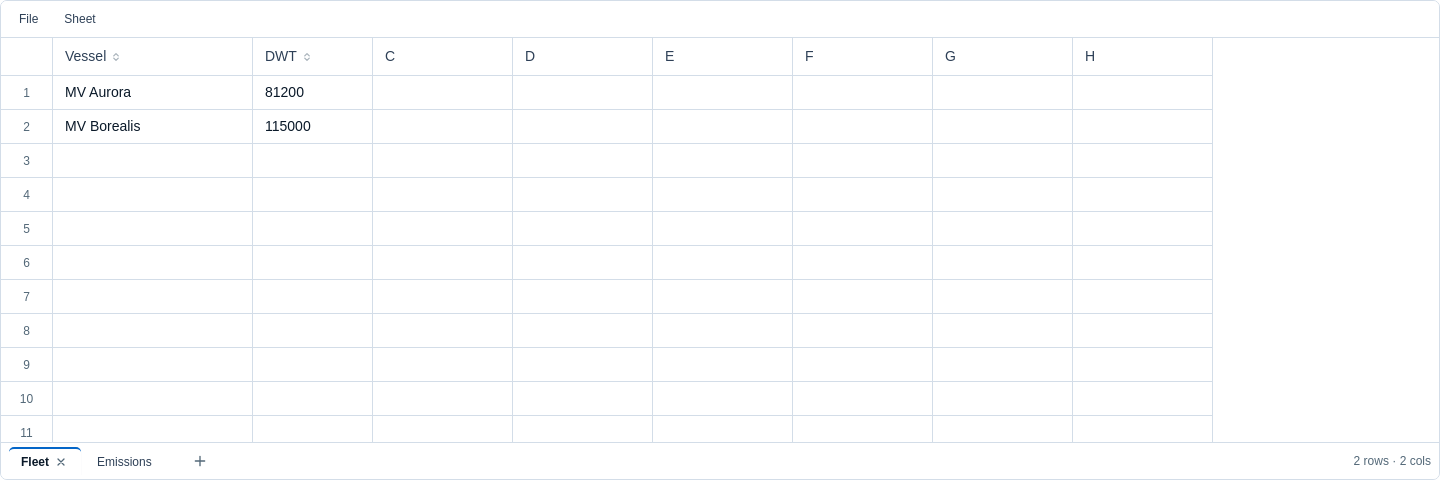
Spreadsheet › adds a blank sheet via the “+” when editable
Expected: the number of tabs is 2, [9,447,81,475]; [97,455,152,469]
Click the button named "Add sheet" at (200, 461), box [188,449,212,473]
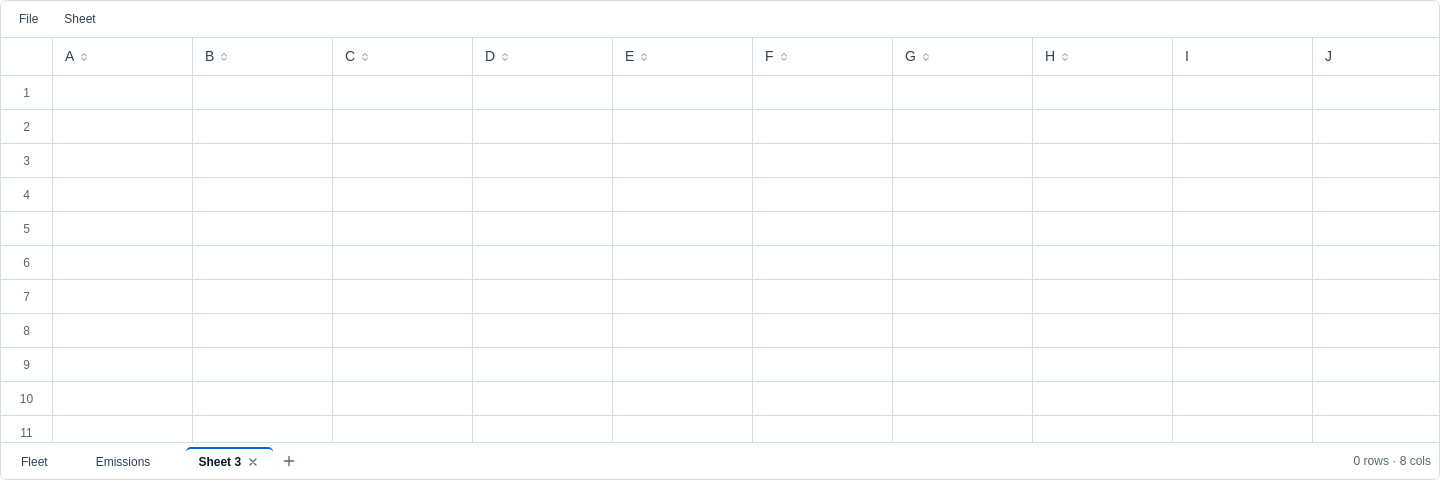
Expected: the number of tabs is 3, [21,455,48,469]; [96,455,150,469]; [186,447,273,475]
